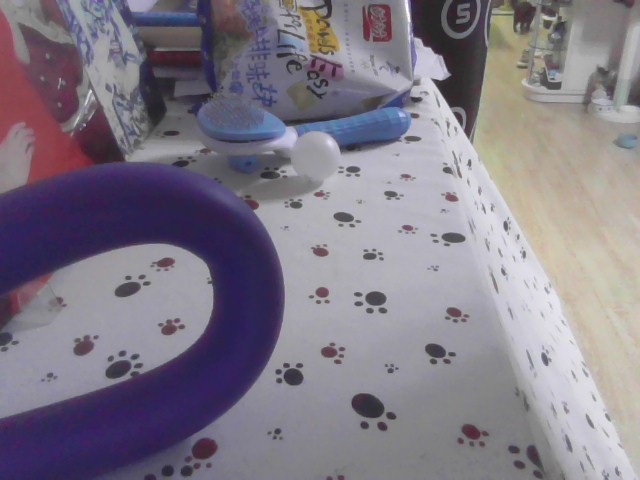ball: (293, 134, 342, 183)
